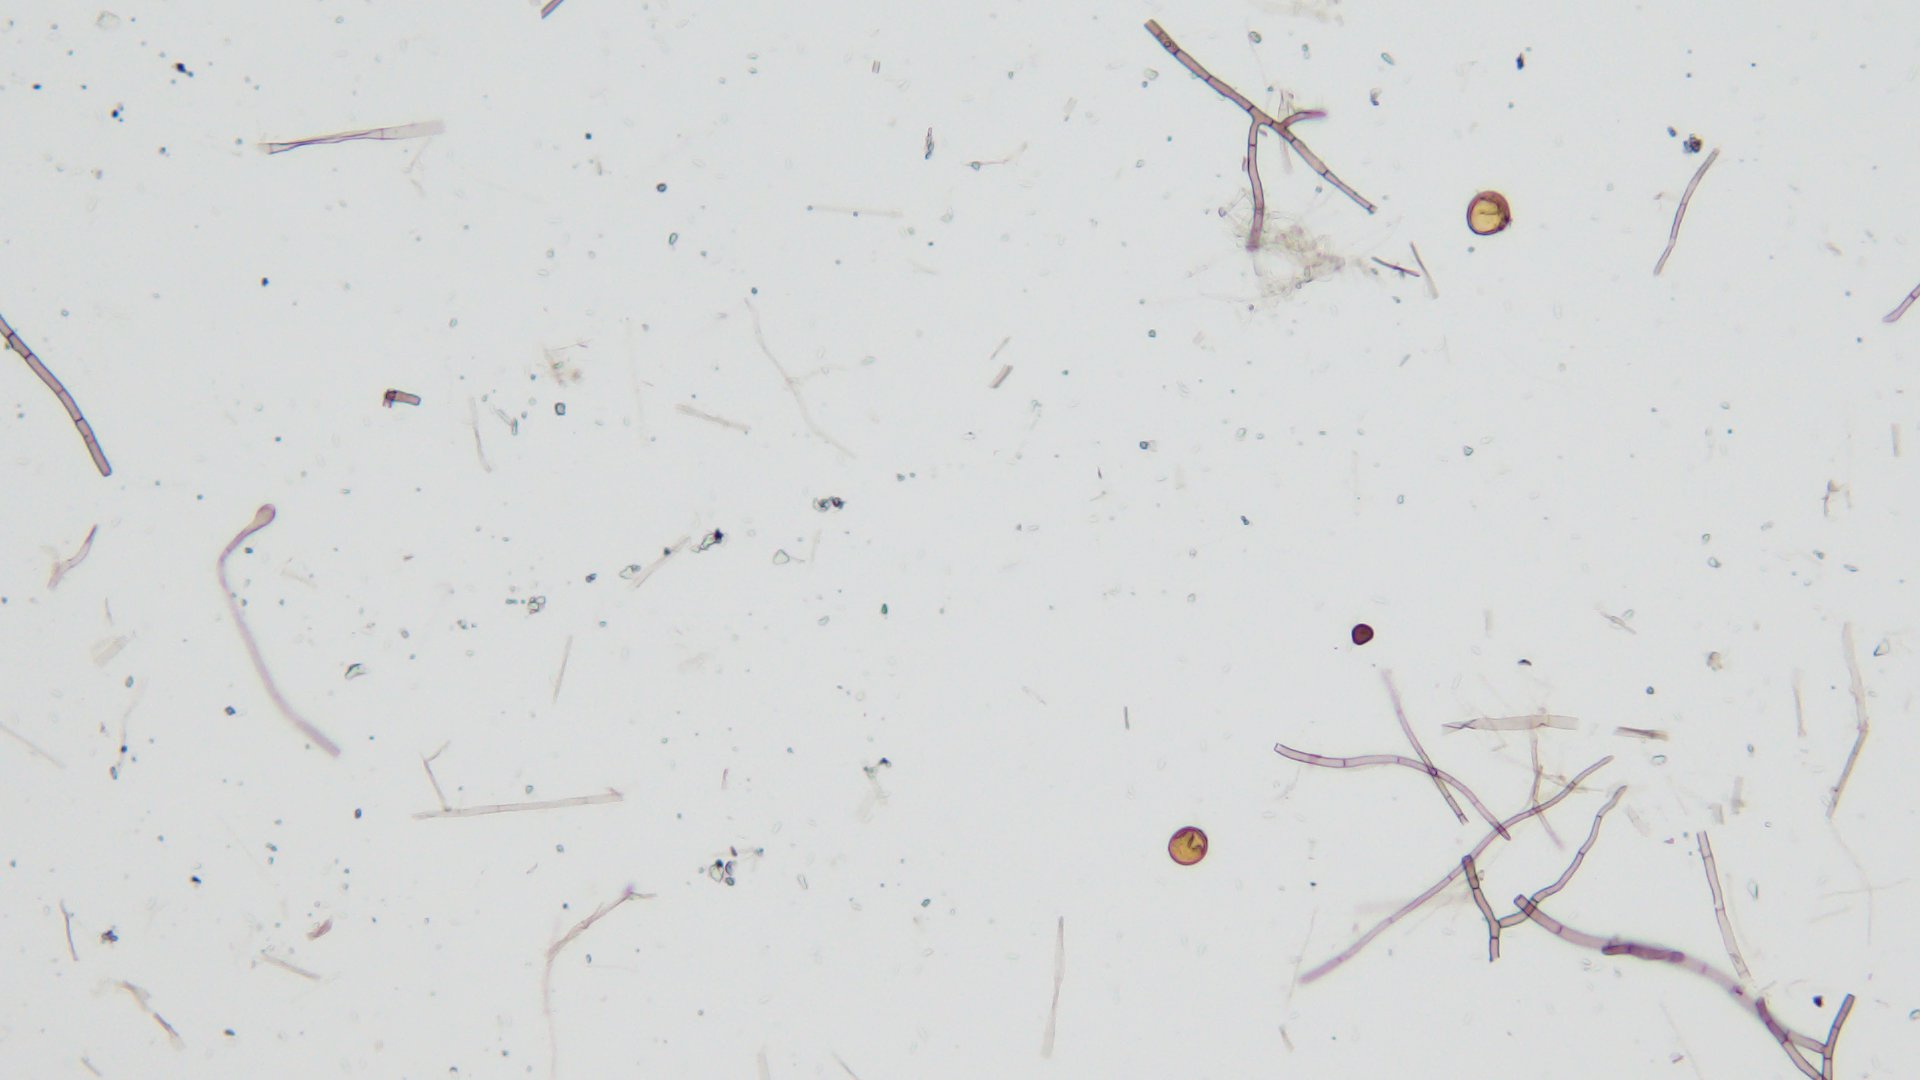shs_spore: (1353, 622, 1375, 645)
xb_spore: (1468, 191, 1511, 233), (1170, 827, 1209, 864)
